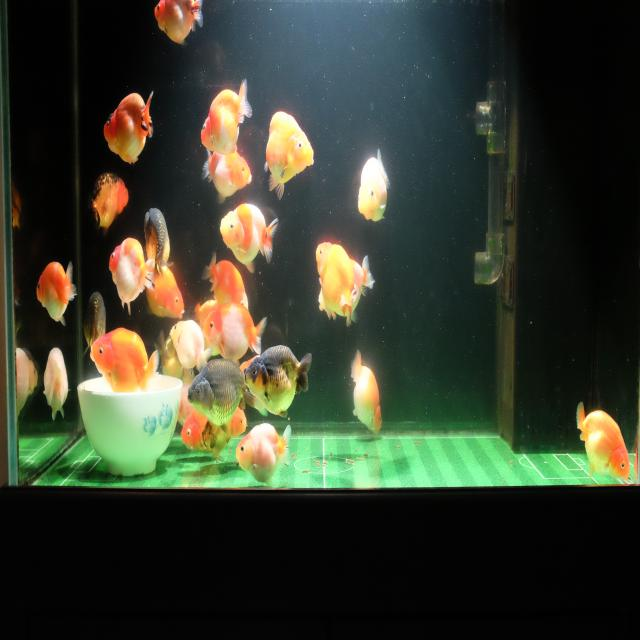Tilapia: (244, 344, 312, 420), (90, 326, 160, 396), (263, 109, 315, 202), (188, 357, 255, 428), (576, 399, 630, 483), (220, 203, 278, 276), (200, 76, 251, 157), (102, 88, 154, 166), (202, 303, 269, 361), (235, 421, 292, 489), (108, 234, 153, 316), (349, 348, 383, 439), (315, 239, 353, 320), (200, 150, 253, 204), (36, 259, 76, 327), (88, 170, 129, 234), (204, 252, 248, 311), (357, 147, 390, 225), (145, 258, 186, 317), (169, 319, 211, 376), (42, 344, 71, 426), (153, 0, 203, 47), (143, 204, 174, 279), (16, 346, 38, 421), (84, 290, 106, 357)
